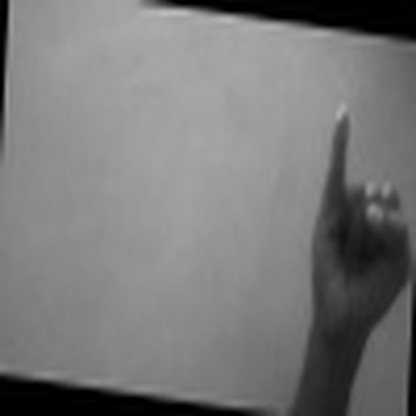i: (292, 103, 412, 358)
